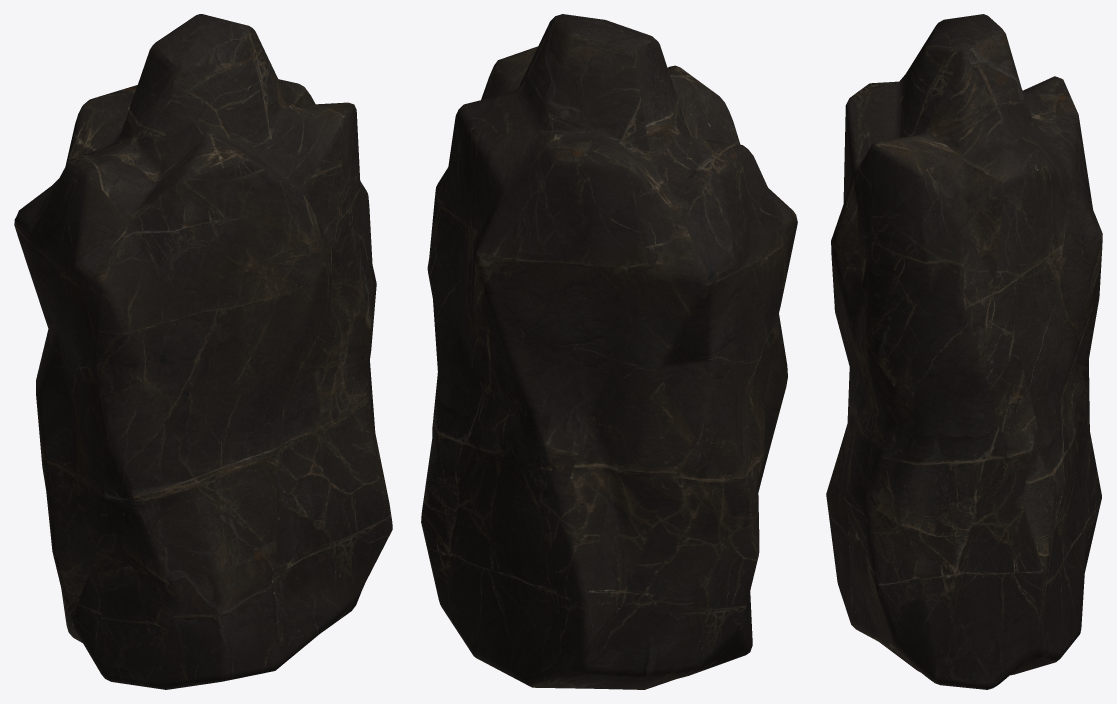
The model's file is ravine_cliff_b.glb.
The picture shows the model from 3 angles, left to right: view 1: azimuth 30°, elevation 25°; view 2: azimuth 150°, elevation 25°; view 3: azimuth 270°, elevation 25°; orthographic projection. The views are drawn at different scales.
Visible parts, largest first — view 1: ravine_cliff_b; view 2: ravine_cliff_b; view 3: ravine_cliff_b.
Part boxes in pixels (x1=…): ravine_cliff_b: x1=14, y1=14, x2=392, y2=689; ravine_cliff_b: x1=421, y1=14, x2=797, y2=689; ravine_cliff_b: x1=826, y1=14, x2=1102, y2=689.
Size of the model in its own units: 1.79 by 3.41 by 1.36.
Materials: 1 (1 with a texture image).
